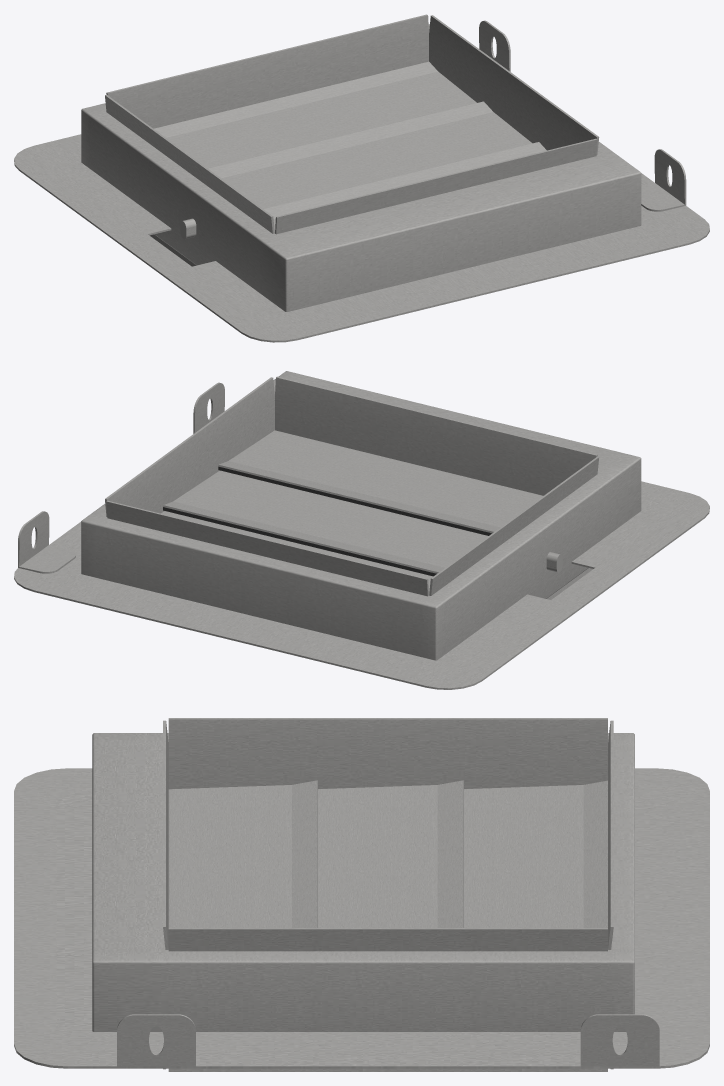
The model's file is DamperTest.gltf.
3 renders of one model, top to bottom at view 1: azimuth 30°, elevation 25°; view 2: azimuth 150°, elevation 25°; view 3: azimuth 270°, elevation 25°, orthographic. The views are drawn at different scales.
Visible parts, largest first — view 1: Plane.001, Plane, Plane.005, Plane.006; view 2: Plane.001, Plane, Plane.005, Plane.006; view 3: Plane.001, Plane, Plane.005, Plane.006.
Boxes of the visible parts, x1,y1,x2,y2 form: Plane.001: (81,14,641,311); Plane: (154,61,546,231); Plane.005: (14,134,709,342); Plane.006: (479,20,686,211); Plane.001: (81,371,641,660); Plane: (161,430,542,594); Plane.005: (14,481,709,689); Plane.006: (18,382,224,573); Plane.001: (92,718,634,1071); Plane: (168,780,607,927); Plane.005: (14,768,709,1068); Plane.006: (117,1014,659,1066).
Bounding box in the file's own units: 2.77 × 0.6177 × 2.73.
2 materials, 1 textured.
